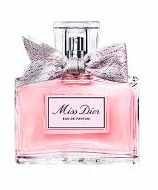dior_miss_dior: (12, 19, 143, 167)
